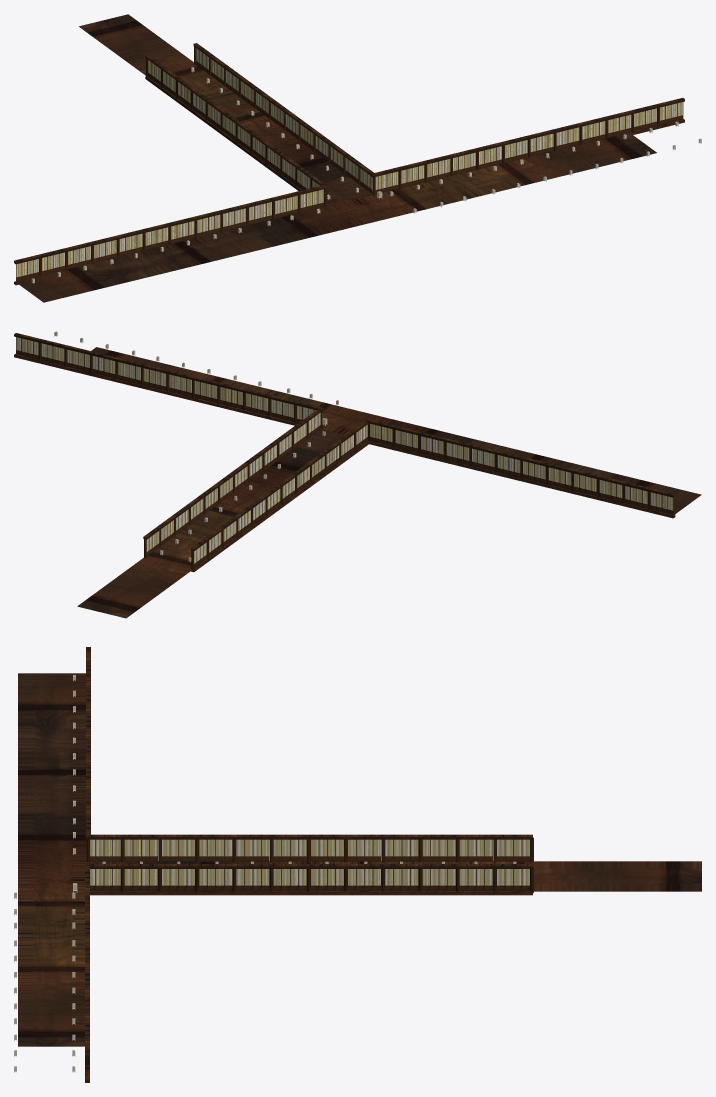
File: In_RoyalPalace.fbx
The picture shows the model from 3 angles, top to bottom: view 1: azimuth 30°, elevation 25°; view 2: azimuth 150°, elevation 25°; view 3: azimuth 270°, elevation 25°; orthographic projection. The views are drawn at different scales.
Visible parts, largest first — view 1: Plane, Plane.001, Cube.003, Cube.015, Cube.013, Cube.011, Cube.014; view 2: Plane.001, Plane, Cube.015, Cube.003, Cube.016, Cube.013, Cube.011, Cube.010, Cube.014; view 3: Plane, Plane.001, Cube.013, Cube.011, Cube.012, Cube.003, Cube.015.
Boxes of the visible parts, left/top/right/bottom form: Plane: left=15, top=132, right=656, bottom=302; Plane.001: left=79, top=14, right=372, bottom=205; Cube.003: left=371, top=98, right=684, bottom=177; Cube.015: left=14, top=185, right=325, bottom=264; Cube.013: left=145, top=55, right=327, bottom=188; Cube.011: left=193, top=43, right=375, bottom=175; Cube.014: left=145, top=76, right=301, bottom=190; Plane.001: left=77, top=429, right=367, bottom=618; Plane: left=68, top=347, right=701, bottom=515; Cube.015: left=369, top=419, right=675, bottom=497; Cube.003: left=14, top=333, right=323, bottom=411; Cube.016: left=369, top=441, right=675, bottom=518; Cube.013: left=190, top=419, right=369, bottom=551; Cube.011: left=143, top=408, right=321, bottom=539; Cube.010: left=14, top=353, right=297, bottom=425; Cube.014: left=191, top=441, right=368, bottom=571; Plane: left=18, top=673, right=89, bottom=1046; Plane.001: left=88, top=861, right=701, bottom=891; Cube.013: left=85, top=834, right=532, bottom=839; Cube.011: left=85, top=864, right=532, bottom=868; Cube.012: left=90, top=891, right=532, bottom=895; Cube.003: left=85, top=864, right=89, bottom=1056; Cube.015: left=86, top=647, right=90, bottom=835.
Bounding box in the file's own units: 38244 × 1286 × 27335.
